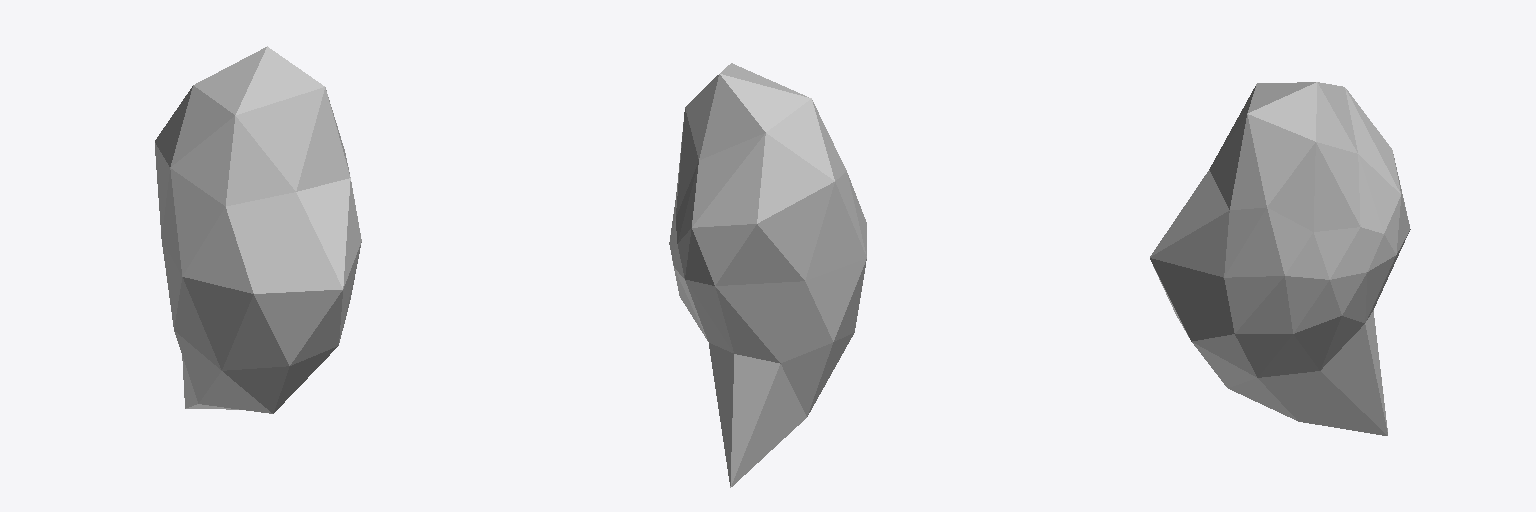
The model's file is meat 2.obj.
3 renders of one model, left to right at view 1: azimuth 30°, elevation 25°; view 2: azimuth 150°, elevation 25°; view 3: azimuth 270°, elevation 25°, orthographic.
Parts seen in each view (by area): view 1: Icosphere; view 2: Icosphere; view 3: Icosphere.
Part boxes in pixels (left/top/right/bottom): Icosphere: left=155, top=46, right=361, bottom=413; Icosphere: left=669, top=63, right=866, bottom=487; Icosphere: left=1150, top=82, right=1410, bottom=435.
Size of the model in its own units: 1.76 by 3.68 by 2.31.